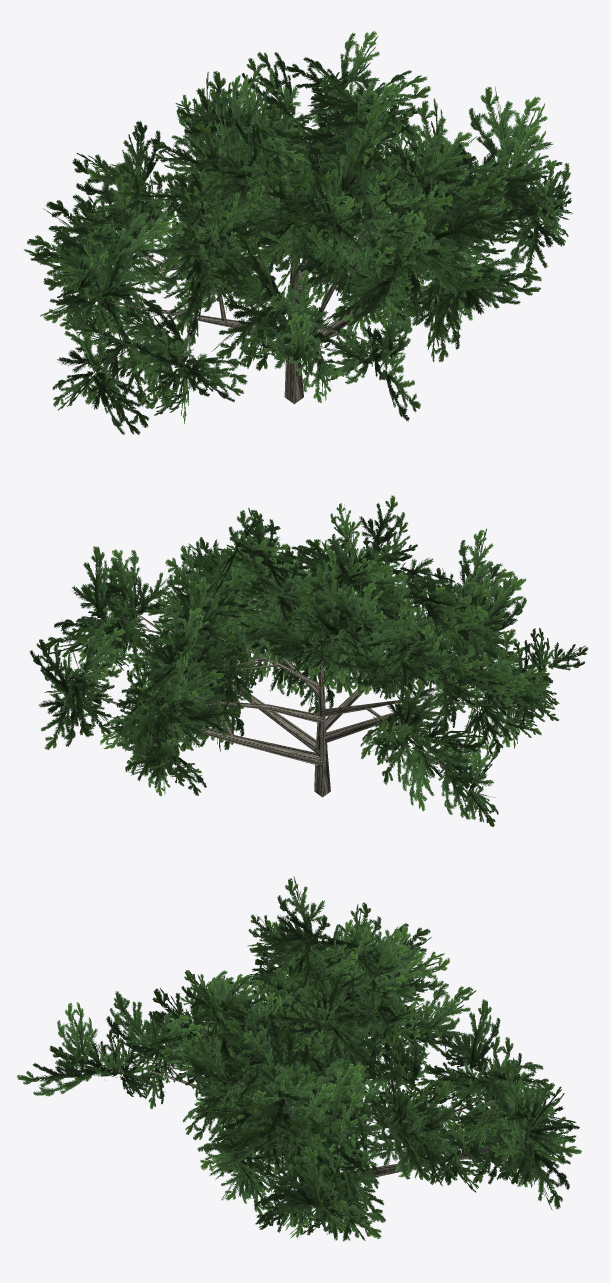
File: tree.glb
3 renders of one model, top to bottom at view 1: azimuth 30°, elevation 25°; view 2: azimuth 150°, elevation 25°; view 3: azimuth 270°, elevation 25°, orthographic. The views are drawn at different scales.
Parts seen in each view (by area): view 1: Tree; view 2: Tree; view 3: Tree.
Boxes of the visible parts, <box> form: Tree: <box>24,31,572,434</box>; Tree: <box>29,495,588,826</box>; Tree: <box>17,876,581,1241</box>.
Size of the model in its own units: 35.67 by 20.82 by 33.88.
2 materials, 2 textured.
